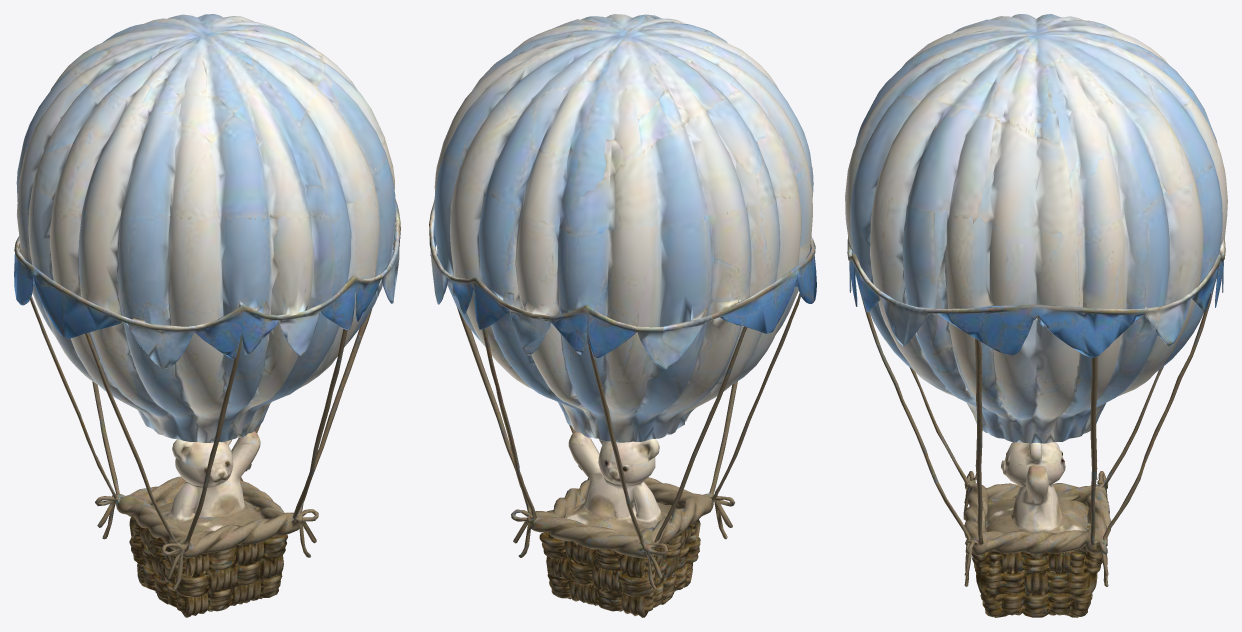
3 renders of one model, left to right at view 1: azimuth 30°, elevation 25°; view 2: azimuth 150°, elevation 25°; view 3: azimuth 270°, elevation 25°, orthographic.
Size of the model in its own units: 1.24 by 1.9 by 1.17.
Materials: 1 (1 with a texture image).
